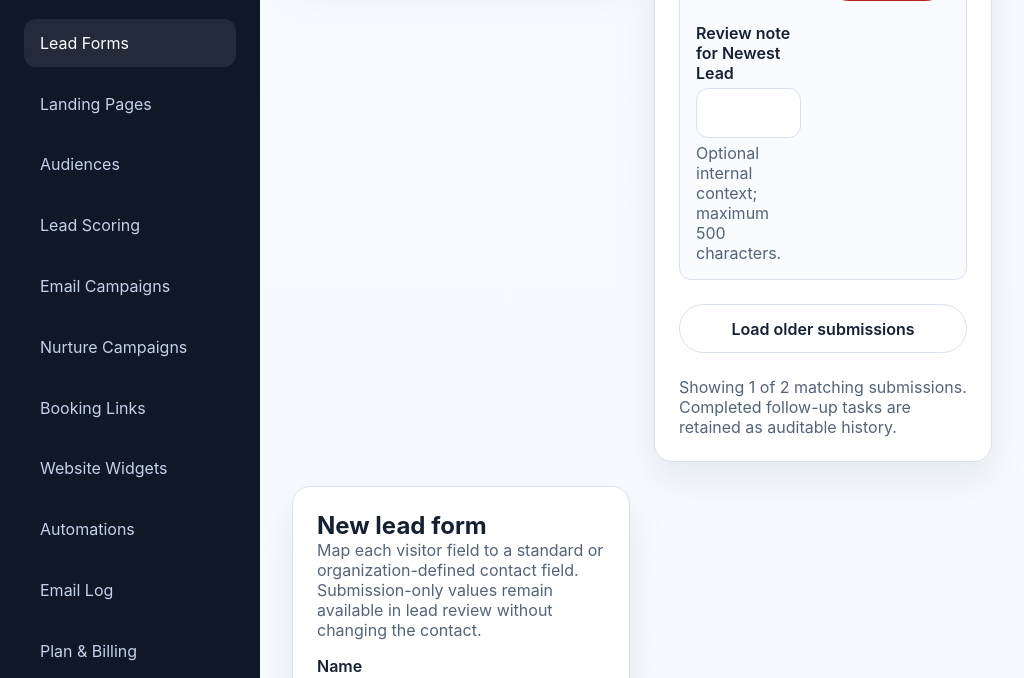
Test case: settings lead forms route › loads older review submissions once without replacing a newer duplicate
(page scrolled)
Click the button "Load older submissions" at (823, 329), box [679,304,967,353]
(page scrolled)
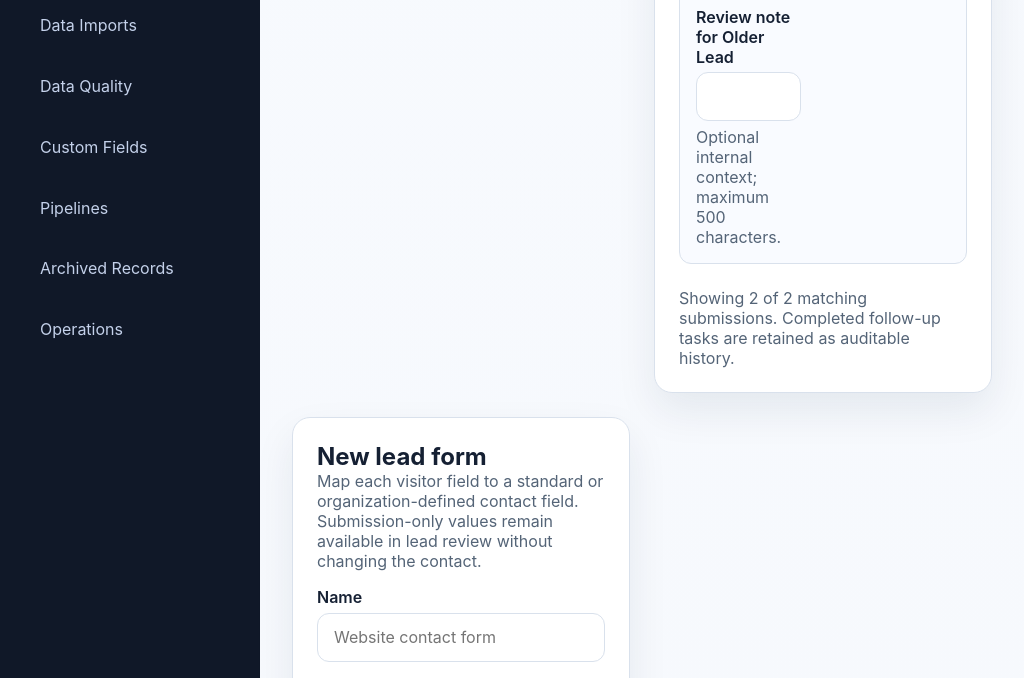
Check: the button "Load older submissions" is gone
Check: the text "Showing 2 of 2 matching submissions" is shown, box [679,288,967,368]
